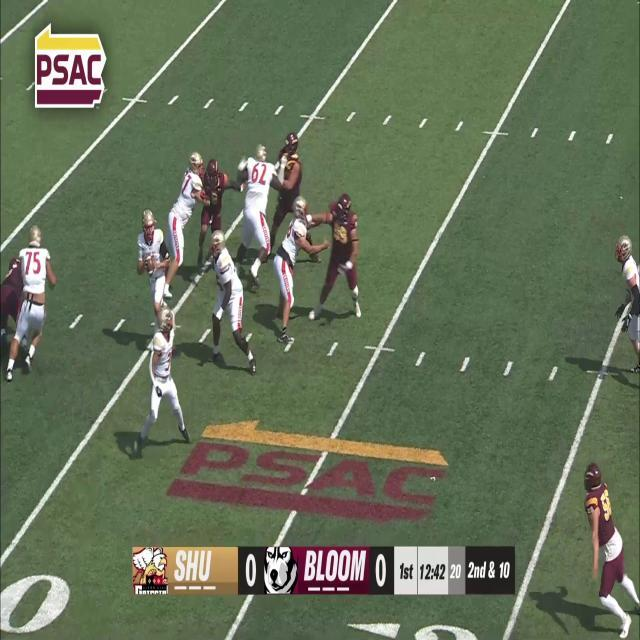football: (144, 254, 154, 274)
